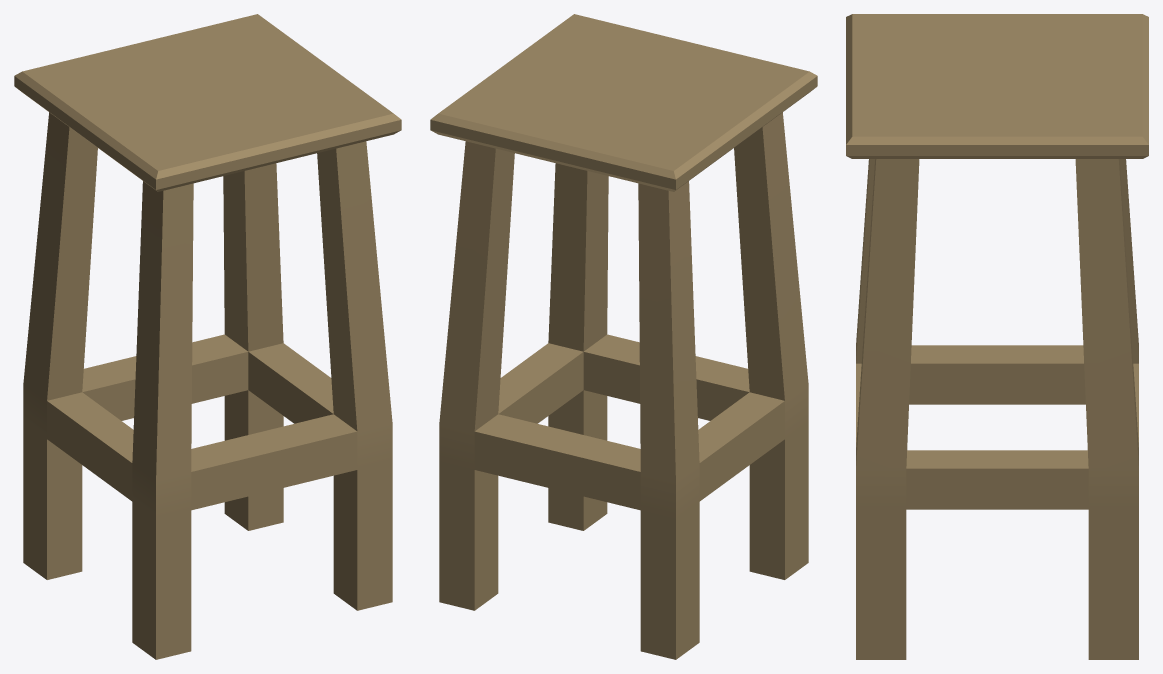
The model's file is ChairStool.fbx.
3 renders of one model, left to right at view 1: azimuth 30°, elevation 25°; view 2: azimuth 150°, elevation 25°; view 3: azimuth 270°, elevation 25°, orthographic. The views are drawn at different scales.
Parts seen in each view (by area): view 1: pCube261; view 2: pCube261; view 3: pCube261.
Part boxes in pixels (x1,y1,x2,y2): pCube261: (14,14,401,659); pCube261: (430,14,817,659); pCube261: (846,14,1148,659).
Bounding box in the file's own units: 45.36 × 86.47 × 45.36.
